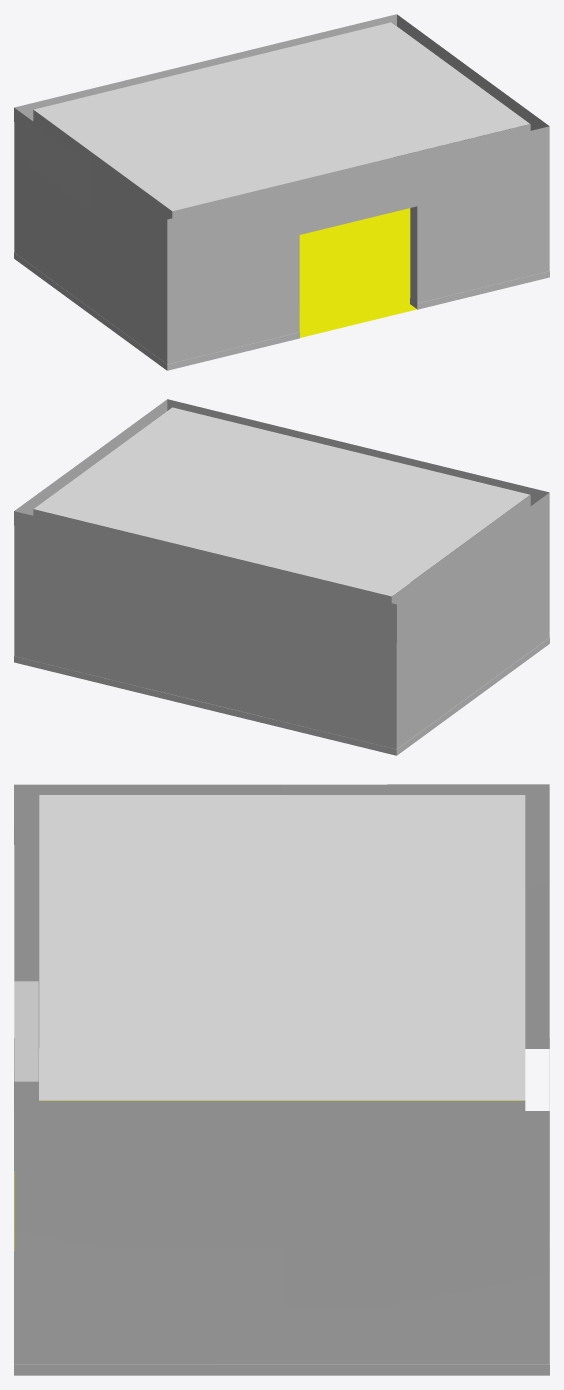
Rendered from room.fbx.
The picture shows the model from 3 angles, top to bottom: view 1: azimuth 30°, elevation 25°; view 2: azimuth 150°, elevation 25°; view 3: azimuth 270°, elevation 25°; orthographic projection. The views are drawn at different scales.
Visible parts, largest first — view 1: room_walls, room_ceiling, room_floor; view 2: room_walls, room_ceiling; view 3: room_walls, room_ceiling.
Boxes of the visible parts, box(x1,y1,x2,y2) form: room_walls: box(14, 14, 549, 370); room_ceiling: box(34, 22, 529, 211); room_floor: box(299, 208, 416, 337); room_walls: box(14, 399, 549, 755); room_ceiling: box(34, 407, 529, 596); room_walls: box(14, 784, 549, 1375); room_ceiling: box(39, 795, 525, 1100).
Bounding box in the file's own units: 31.79 × 12 × 22.04.
